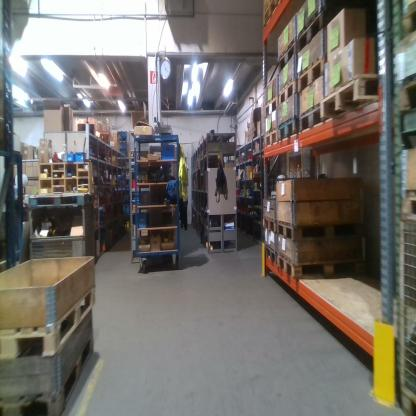pallet: (0, 332, 96, 415), (0, 280, 96, 360), (321, 71, 380, 122), (278, 253, 362, 283), (275, 215, 363, 242), (296, 11, 336, 57), (298, 51, 329, 95), (299, 103, 325, 135), (278, 37, 297, 76), (279, 78, 300, 107), (279, 115, 299, 143), (400, 190, 413, 223), (264, 93, 279, 119), (263, 243, 278, 268), (264, 128, 278, 149), (260, 213, 277, 230)
small_load_carrier: (161, 143, 176, 161)
stillage: (392, 212, 416, 415)
